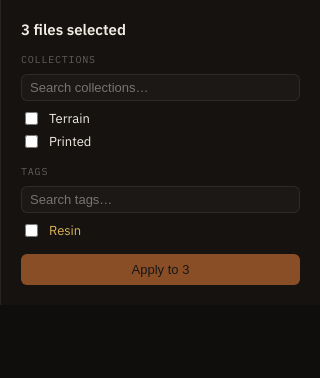
Test: BatchAssignPanel › applies staged folders + tags, notifies, then clears + confirms
Click the checkbox labelled "Terrain". click: click(32, 118)
box: [25,112,38,125]
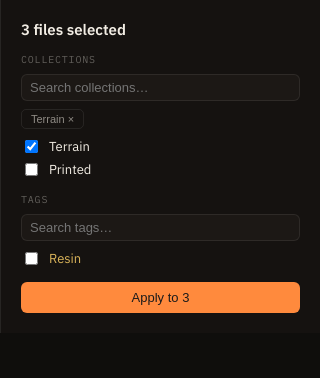
Click the checkbox labelled "Resin". click: click(32, 258)
box: [25,252,38,265]
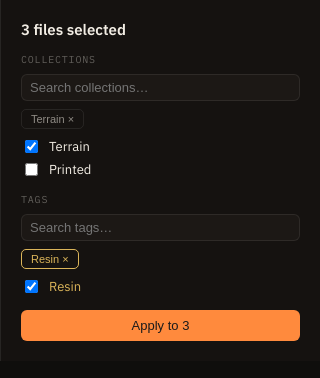
Click the button "Apply to 3". click: click(160, 326)
box: [21,310,300,341]
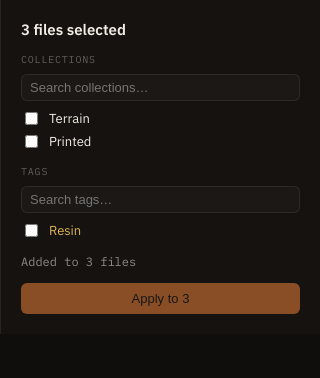
Now the text "Added to 3 files" is shown, box [21,254,136,269]
Now the button "Apply to 3" is disabled, box [21,283,300,314]
